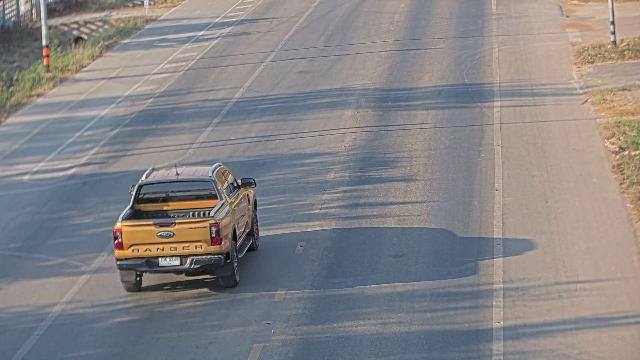pickup-truck: (112, 162, 260, 292)
